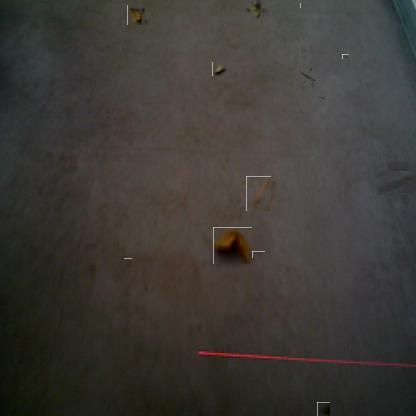dirty: (213, 227, 252, 264), (244, 178, 273, 209), (126, 7, 144, 24), (247, 0, 264, 16), (212, 62, 227, 76), (316, 402, 330, 416)
mark: (381, 166, 416, 201), (300, 69, 314, 83), (86, 263, 96, 278), (254, 250, 263, 260), (124, 258, 132, 269), (140, 281, 148, 291), (317, 93, 325, 101), (343, 53, 348, 60), (300, 2, 305, 8)
